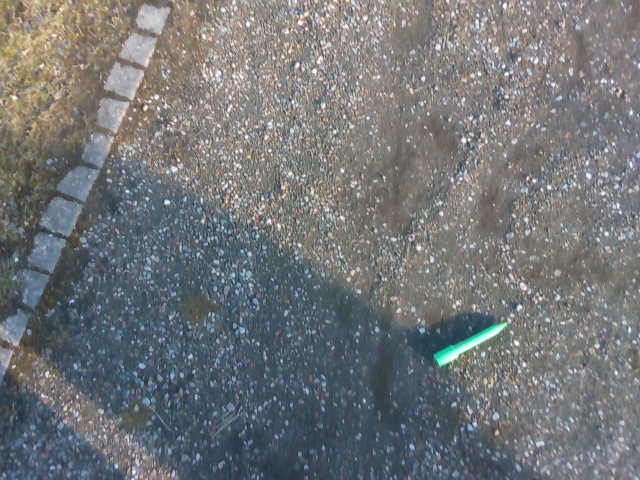Probe: (430, 316, 514, 368)
